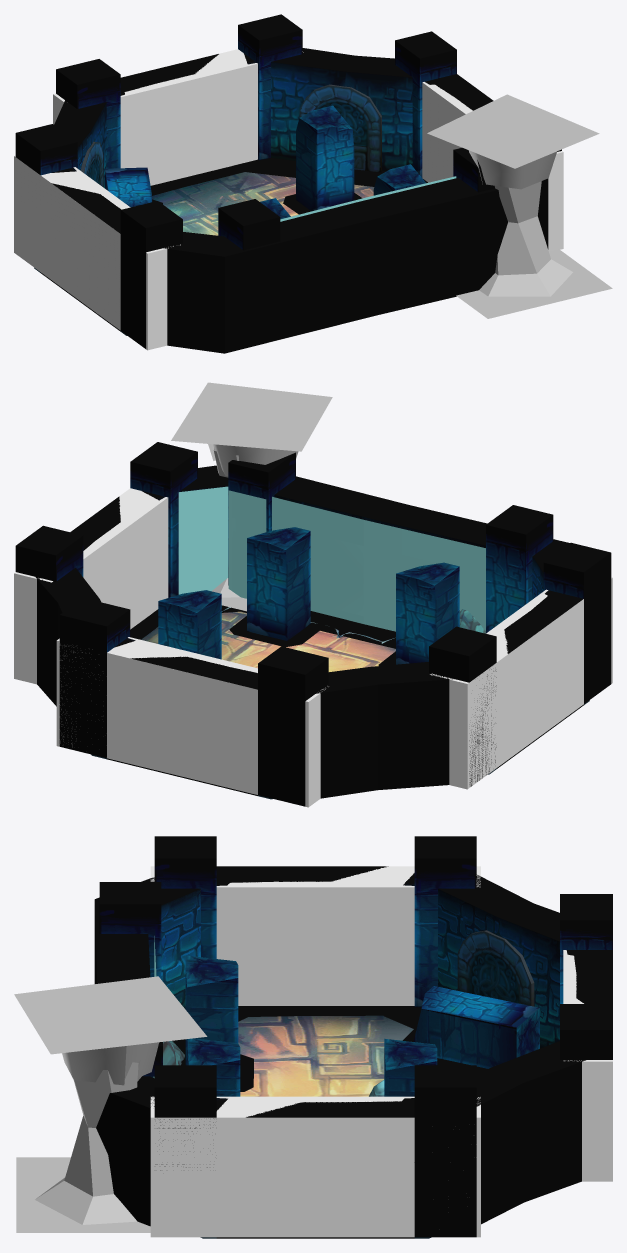
The model's file is Dungeon_051_RoadT_002.fbx.
The picture shows the model from 3 angles, top to bottom: view 1: azimuth 30°, elevation 25°; view 2: azimuth 150°, elevation 25°; view 3: azimuth 270°, elevation 25°; orthographic projection. The views are drawn at different scales.
Parts seen in each view (by area): view 1: Dun_051_RoadT_002_Wall, DoorWay_NavMask (1) (×3), Dun_051_RoadT_002_Pillar, Dungeon_021_Object_010, Dun_051_Obj01_Pillar (×2), Dungeon_021_Object_011, Dun_051_RoadT_002_Ground, Dun_051_RoadT_002_Wallobject, Dun_051_Door_002 (×3), Dangeonpats_001_shadow_002, Dun_051_RoadT_002_shadow, Dun_011_Door_002_shadow (+1 smaller); view 2: DoorWay_NavMask (1) (×3), Dun_051_RoadT_002_Pillar, Dun_051_RoadT_002_Wall, Dun_051_RoadT_002_GroundWater_Terikaeshi, Dun_051_Obj01_Pillar (×3), Dungeon_021_Object_010, Dun_051_Door_002 (×3), Dun_051_RoadT_002_Ground, Dun_051_RoadT_002_shadow, Dun_051_Obj01_Pillar_Shadow; view 3: DoorWay_NavMask (1) (×3), Dun_051_RoadT_002_Pillar, Dun_051_RoadT_002_Wall, Dungeon_021_Object_010, Dun_051_RoadT_002_Ground, Dun_051_Obj01_Pillar (×3), Dun_051_Door_002 (×3), Dungeon_021_Object_011, Dun_051_RoadT_002_Wallobject, Dangeonpats_001_shadow_002, Dun_051_RoadT_002_shadow, Dun_011_Door_002_shadow.
Part boxes in pixels (bbox=[...]): Dun_051_RoadT_002_Wall: bbox=[54, 48, 548, 353]; DoorWay_NavMask (1) (×3): bbox=[14, 49, 563, 350]; Dun_051_RoadT_002_Pillar: bbox=[15, 14, 561, 348]; Dungeon_021_Object_010: bbox=[427, 94, 599, 189]; Dun_051_Obj01_Pillar (×2): bbox=[296, 105, 425, 211]; Dungeon_021_Object_011: bbox=[479, 181, 572, 296]; Dun_051_RoadT_002_Ground: bbox=[34, 172, 374, 335]; Dun_051_RoadT_002_Wallobject: bbox=[80, 84, 381, 187]; Dun_051_Door_002 (×3): bbox=[40, 53, 493, 331]; Dangeonpats_001_shadow_002: bbox=[456, 249, 612, 318]; Dun_051_RoadT_002_shadow: bbox=[151, 157, 427, 204]; Dun_011_Door_002_shadow: bbox=[150, 166, 245, 195]; DoorWay_NavMask (1) (×3): bbox=[14, 488, 612, 807]; Dun_051_RoadT_002_Pillar: bbox=[15, 442, 611, 806]; Dun_051_RoadT_002_Wall: bbox=[35, 465, 569, 798]; Dun_051_RoadT_002_GroundWater_Terikaeshi: bbox=[178, 486, 485, 631]; Dun_051_Obj01_Pillar (×3): bbox=[158, 527, 459, 664]; Dungeon_021_Object_010: bbox=[171, 382, 332, 475]; Dun_051_Door_002 (×3): bbox=[70, 491, 583, 795]; Dun_051_RoadT_002_Ground: bbox=[91, 611, 589, 799]; Dun_051_RoadT_002_shadow: bbox=[152, 605, 395, 648]; Dun_051_Obj01_Pillar_Shadow: bbox=[229, 616, 319, 647]; DoorWay_NavMask (1) (×3): bbox=[150, 866, 612, 1237]; Dun_051_RoadT_002_Pillar: bbox=[99, 836, 612, 1237]; Dun_051_RoadT_002_Wall: bbox=[94, 875, 585, 1226]; Dungeon_021_Object_010: bbox=[14, 976, 207, 1085]; Dun_051_RoadT_002_Ground: bbox=[200, 1015, 431, 1238]; Dun_051_Obj01_Pillar (×3): bbox=[185, 955, 437, 1096]; Dun_051_Door_002 (×3): bbox=[216, 866, 612, 1238]; Dungeon_021_Object_011: bbox=[35, 1060, 141, 1224]; Dun_051_RoadT_002_Wallobject: bbox=[457, 930, 534, 1006]; Dangeonpats_001_shadow_002: bbox=[16, 1157, 150, 1232]; Dun_051_RoadT_002_shadow: bbox=[173, 1006, 487, 1073]; Dun_011_Door_002_shadow: bbox=[249, 1006, 383, 1016].
Size of what is drawn, in the model's own units: 9 by 3.03 by 9.07.
